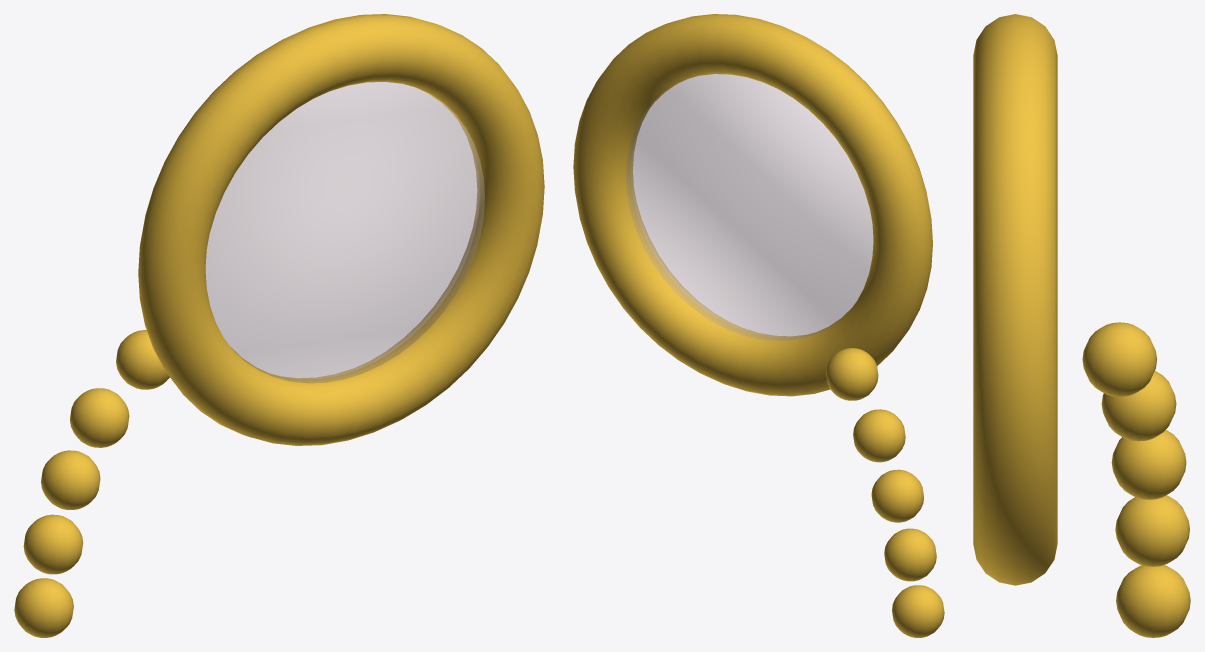
File: monocle.glb
The picture shows the model from 3 angles, left to right: view 1: azimuth 30°, elevation 25°; view 2: azimuth 150°, elevation 25°; view 3: azimuth 270°, elevation 25°; orthographic projection. The views are drawn at different scales.
Parts seen in each view (by area): view 1: Ring, Lens.001, Bead3, Bead4, Bead2, Bead1, Bead0; view 2: Ring, Lens.001, Bead3, Bead4, Bead1, Bead2, Bead0; view 3: Ring, Bead0, Bead4, Bead3, Bead2, Bead1.
Part boxes in pixels (<box>): Ring: <box>138,14,544,445</box>; Lens.001: <box>205,82,484,382</box>; Bead3: <box>23,514,82,574</box>; Bead4: <box>14,578,73,637</box>; Bead2: <box>41,450,100,509</box>; Bead1: <box>70,388,129,447</box>; Bead0: <box>116,330,169,389</box>; Ring: <box>573,14,932,396</box>; Lens.001: <box>626,74,873,340</box>; Bead3: <box>884,528,936,581</box>; Bead4: <box>892,585,944,637</box>; Bead1: <box>853,409,905,462</box>; Bead2: <box>871,469,923,522</box>; Bead0: <box>826,348,878,400</box>; Ring: <box>973,14,1057,585</box>; Bead0: <box>1082,322,1157,396</box>; Bead4: <box>1116,565,1190,637</box>; Bead3: <box>1115,495,1189,566</box>; Bead2: <box>1111,430,1186,499</box>; Bead1: <box>1101,371,1176,441</box>.
Bounding box in the file's own units: 0.2065 × 0.2515 × 0.0669.
